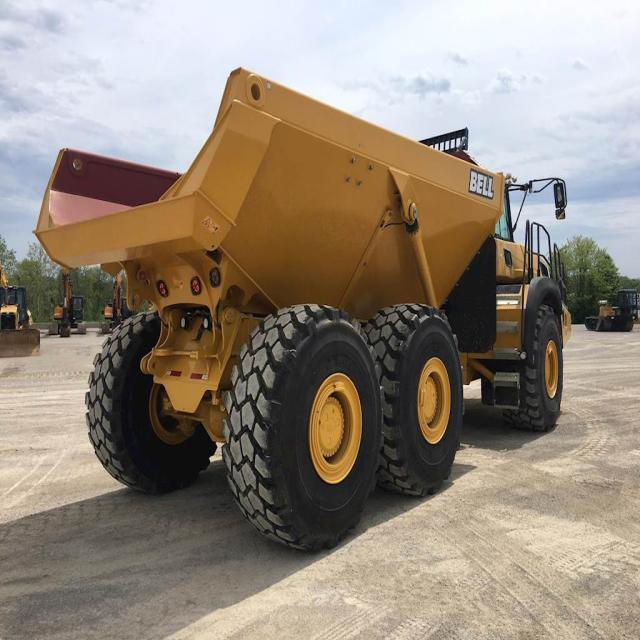dump_truck: (30, 64, 580, 543)
